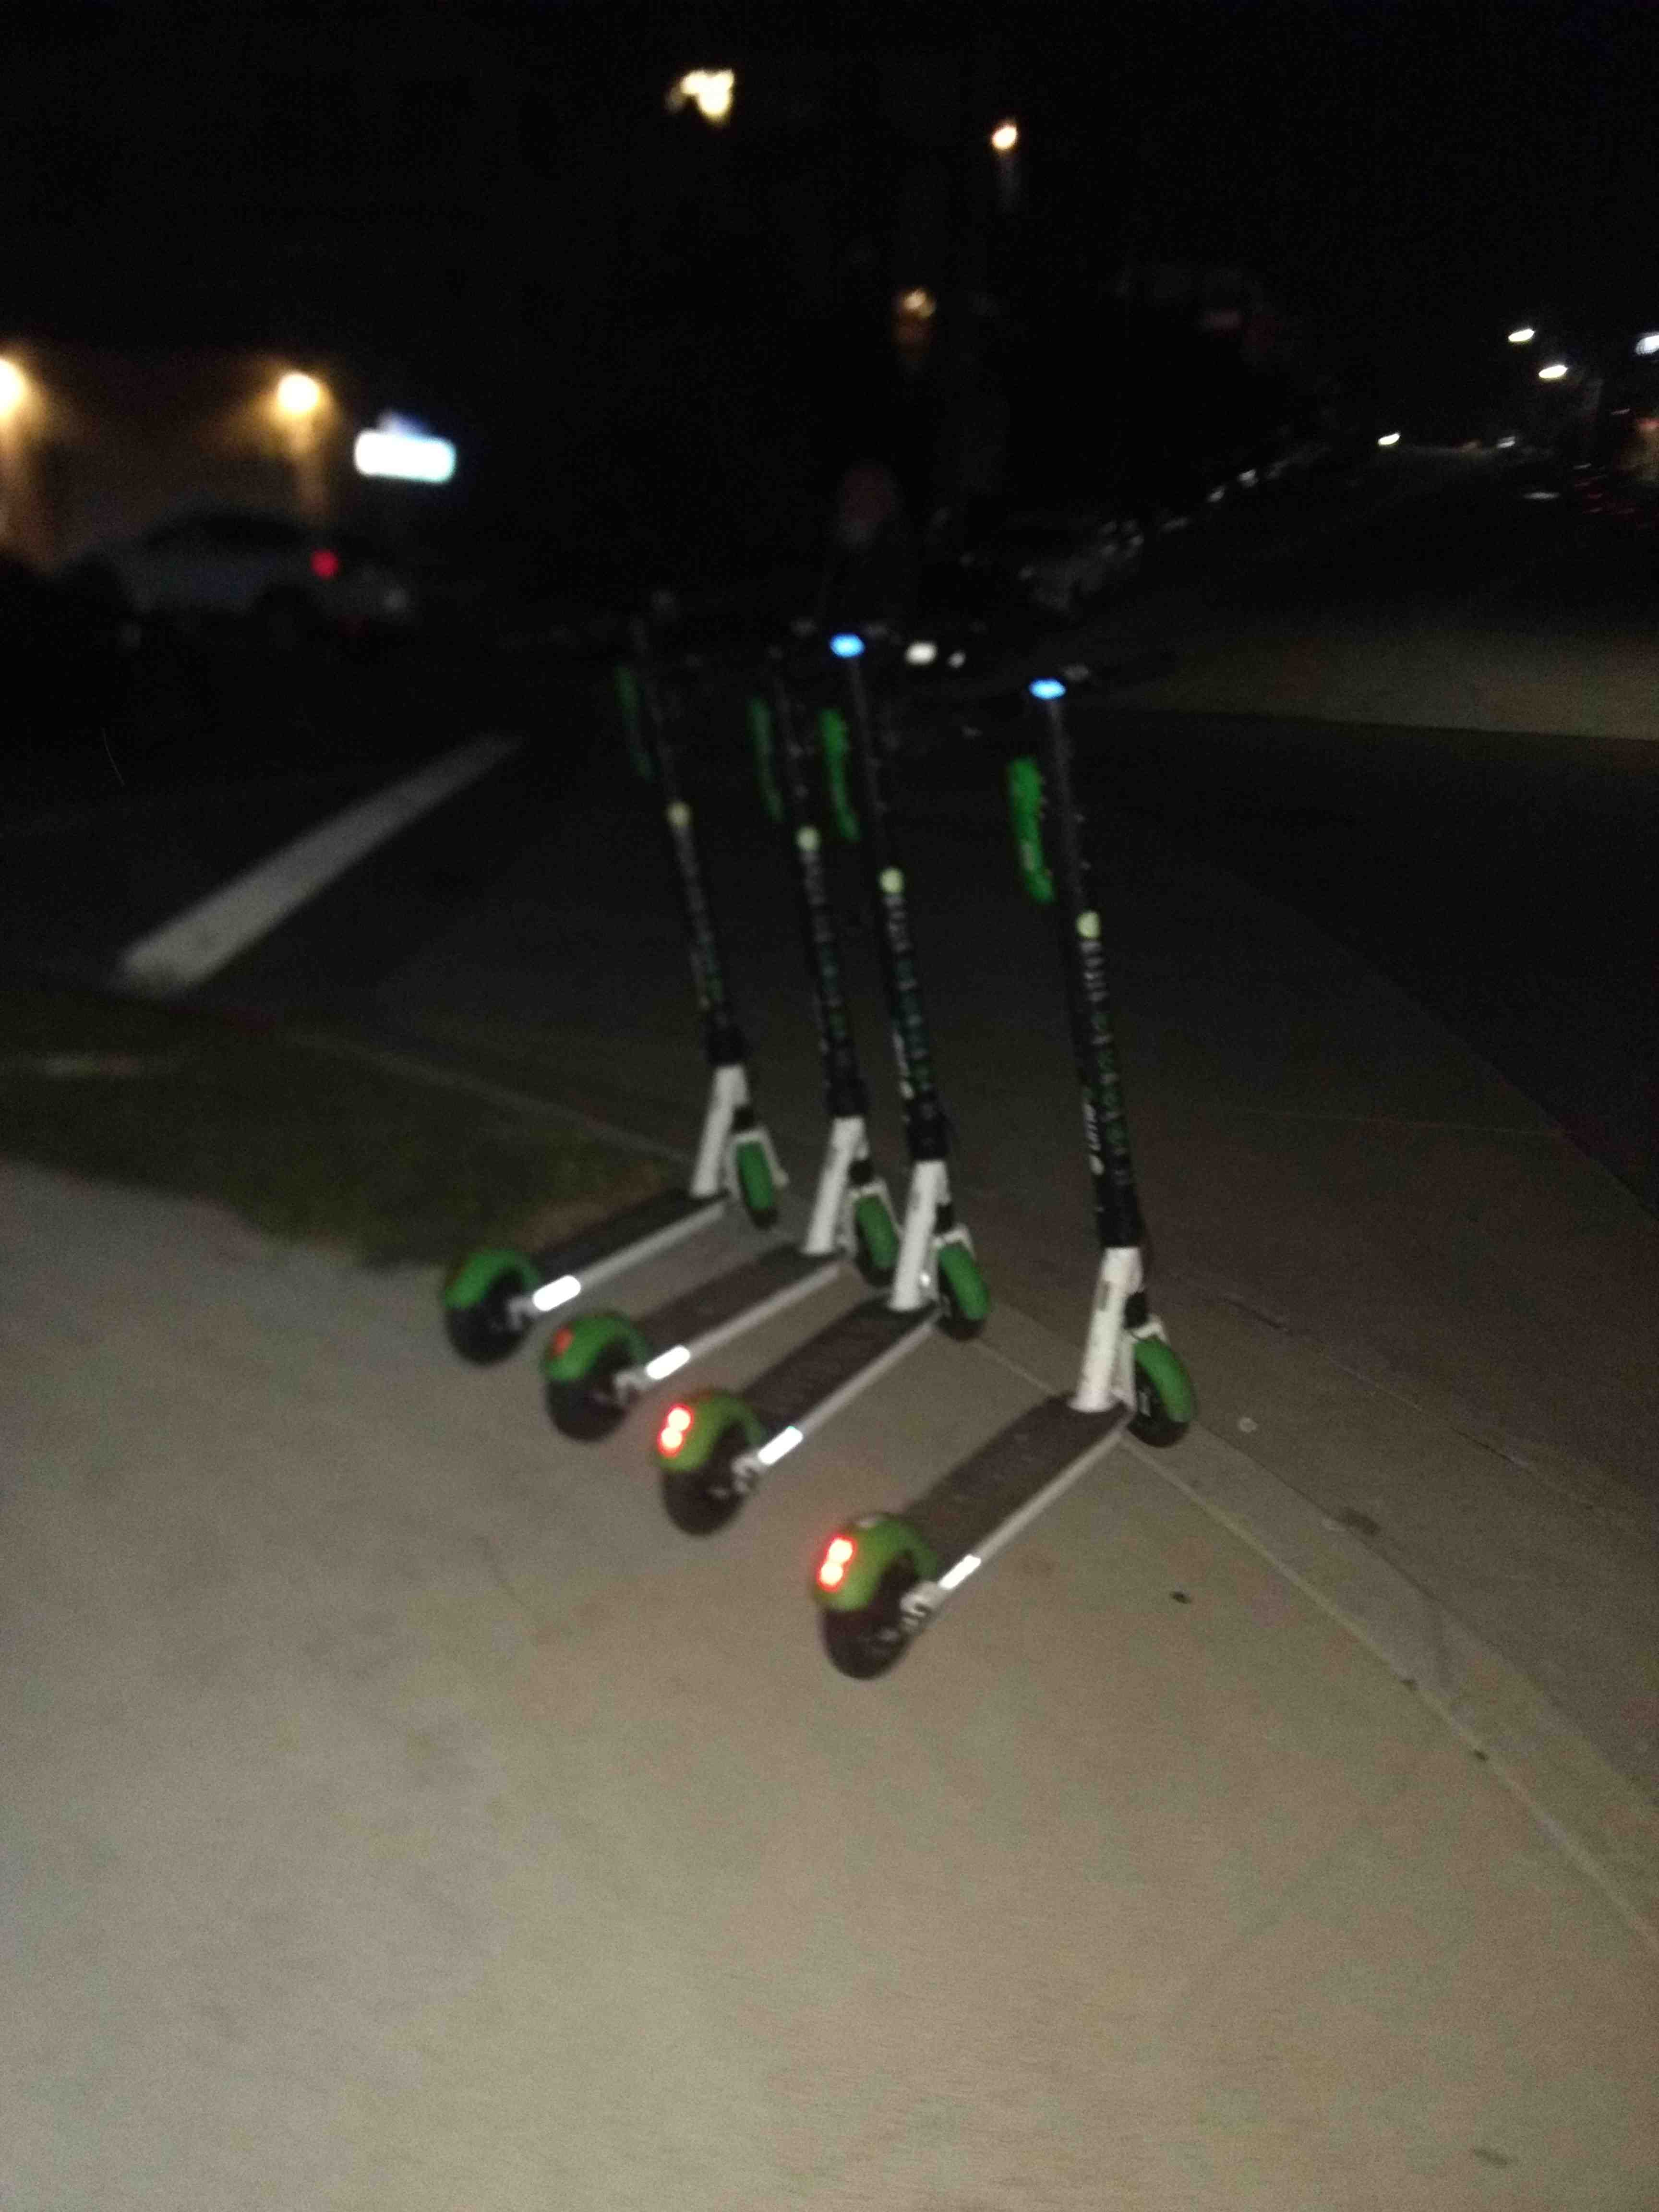too close: (1026, 1289, 1267, 1500), (890, 1216, 1035, 1366)
